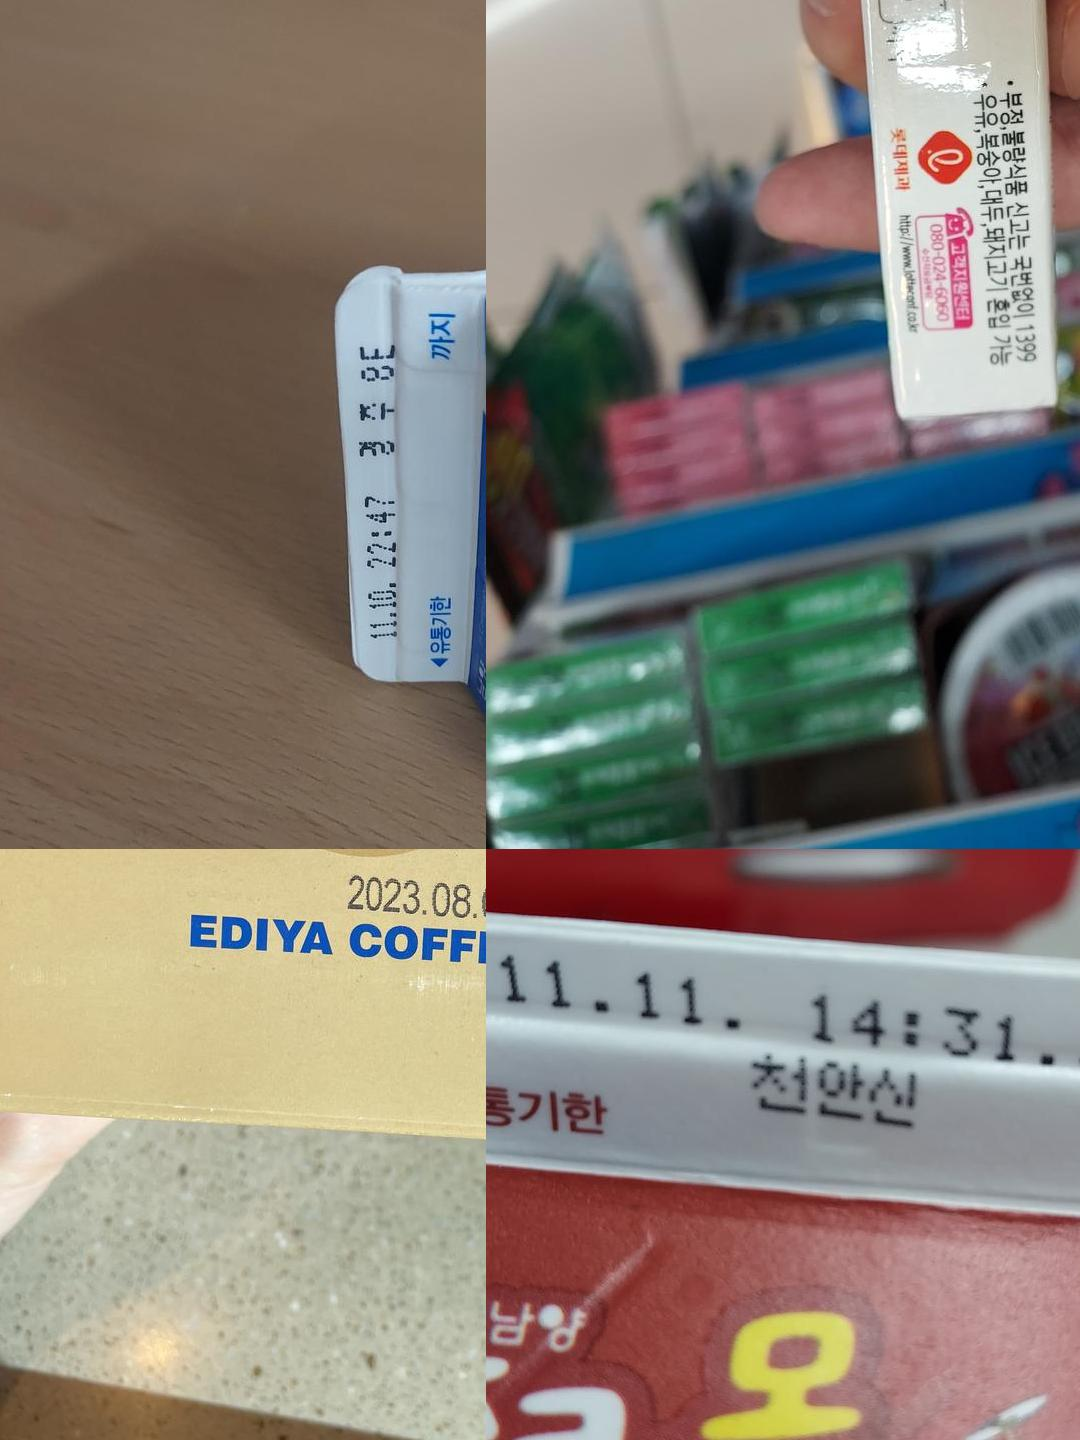gum: (862, 0, 947, 125)
milk: (486, 900, 1080, 1246), (335, 264, 471, 682)
snack food: (332, 862, 486, 926)
